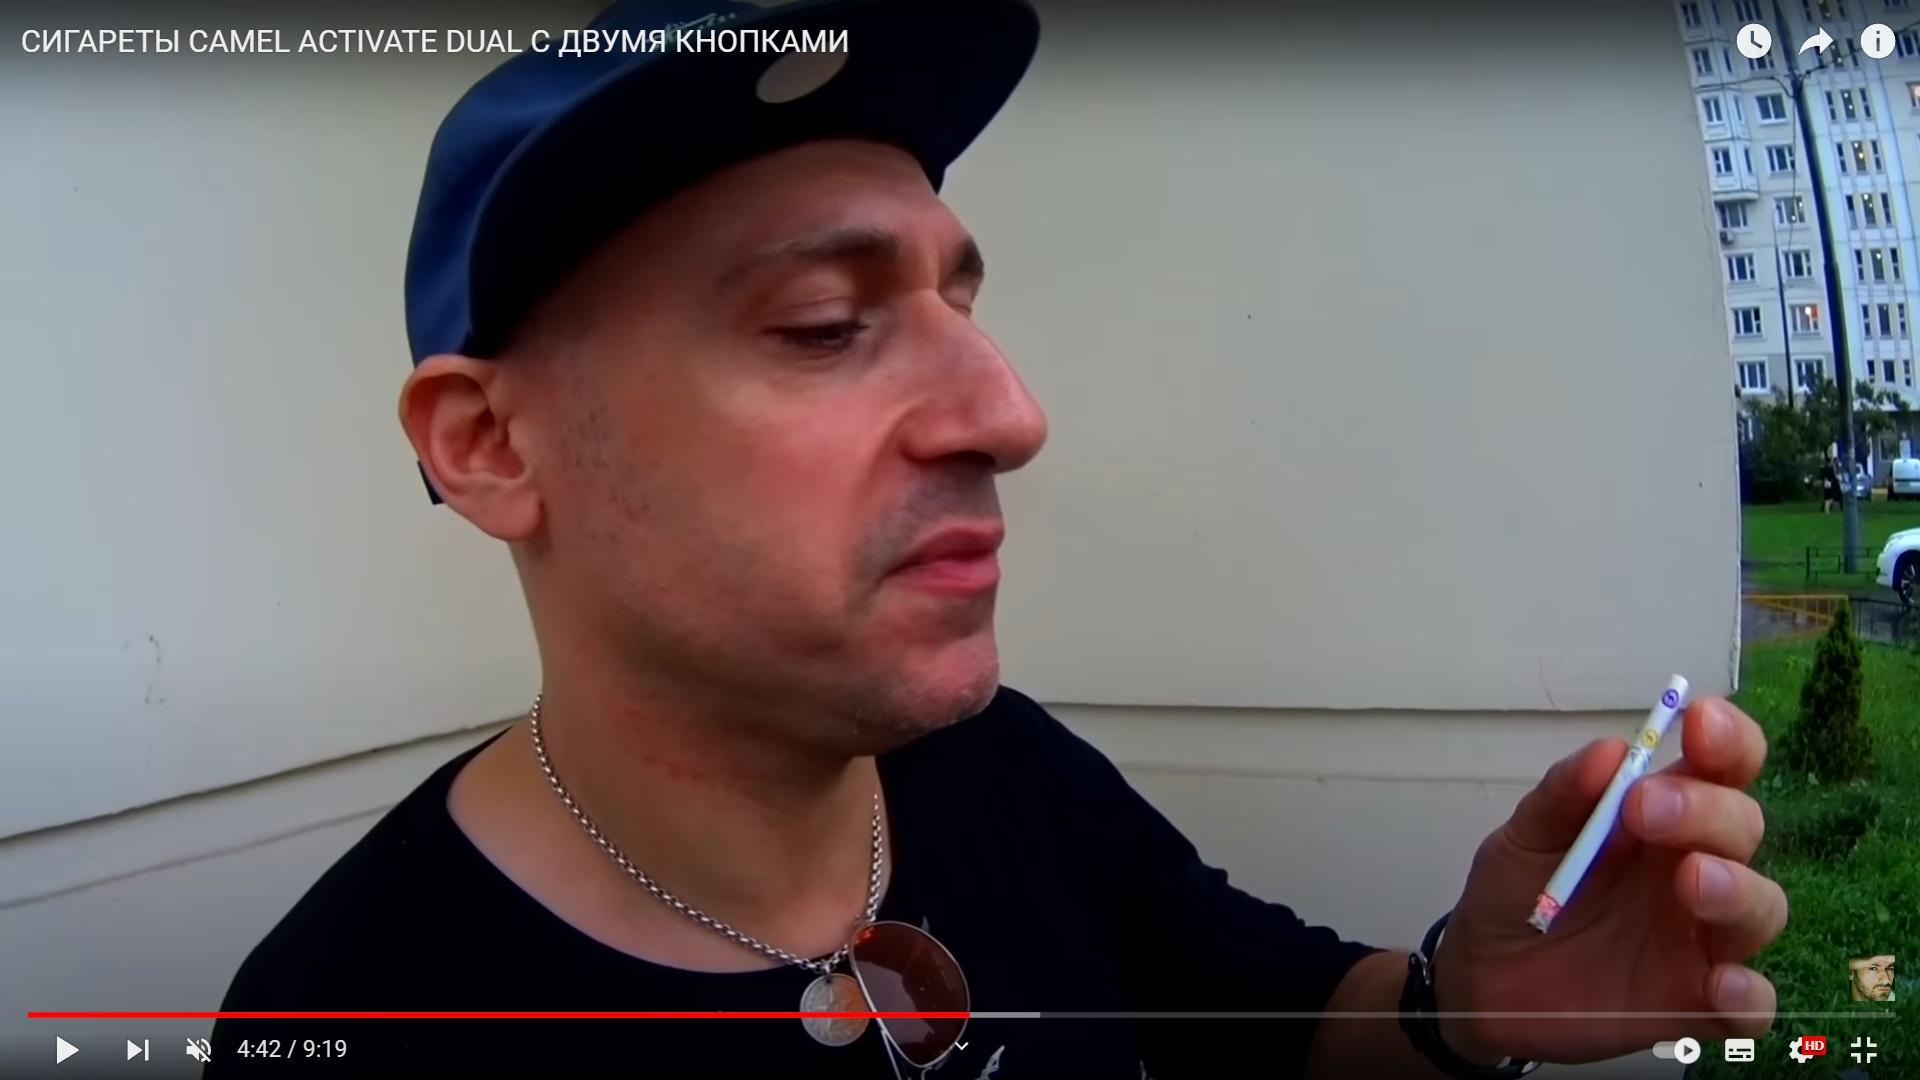cigarette: (1530, 675, 1689, 936)
